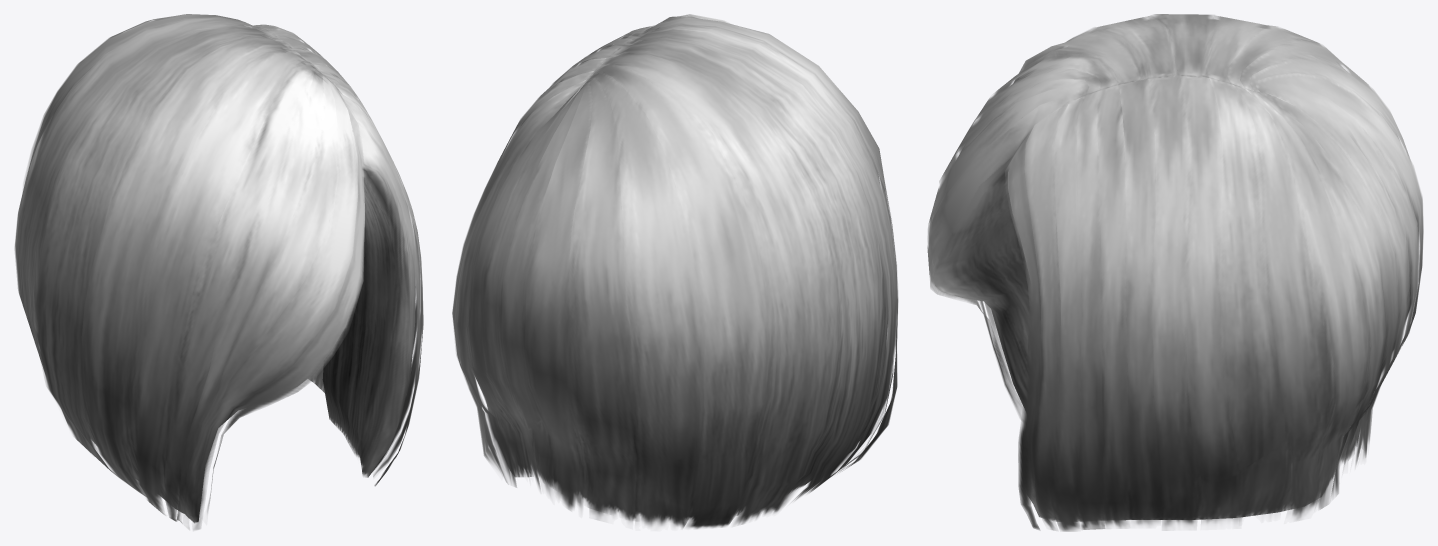
File: hair_bob02.gltf
3 views of the same model, side by side, from view 1: azimuth 30°, elevation 25°; view 2: azimuth 150°, elevation 25°; view 3: azimuth 270°, elevation 25° (orthographic). The views are drawn at different scales.
Visible parts, largest first — view 1: hair_bob02; view 2: hair_bob02; view 3: hair_bob02.
Boxes of the visible parts, x1,y1,x2,y2 form: hair_bob02: [14, 14, 423, 529]; hair_bob02: [452, 14, 898, 528]; hair_bob02: [927, 14, 1423, 531].
Bounding box in the file's own units: 0.1874 × 0.2248 × 0.2187.
Materials: 1 (1 with a texture image).
